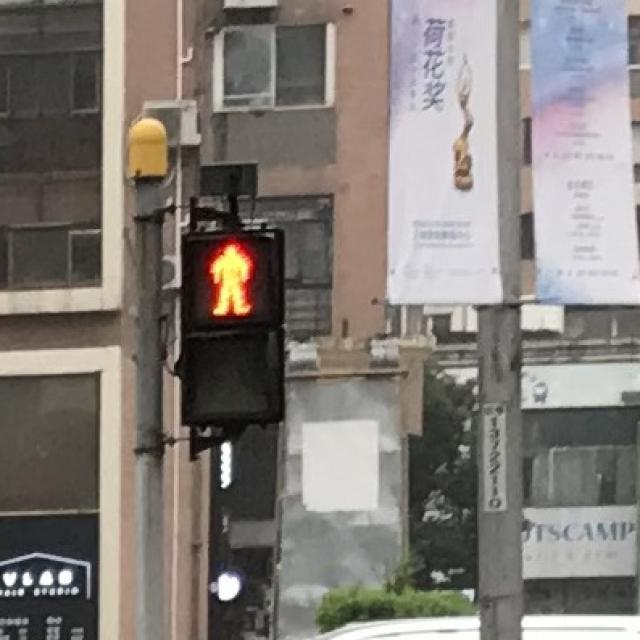red-crossing: (183, 232, 274, 319)
